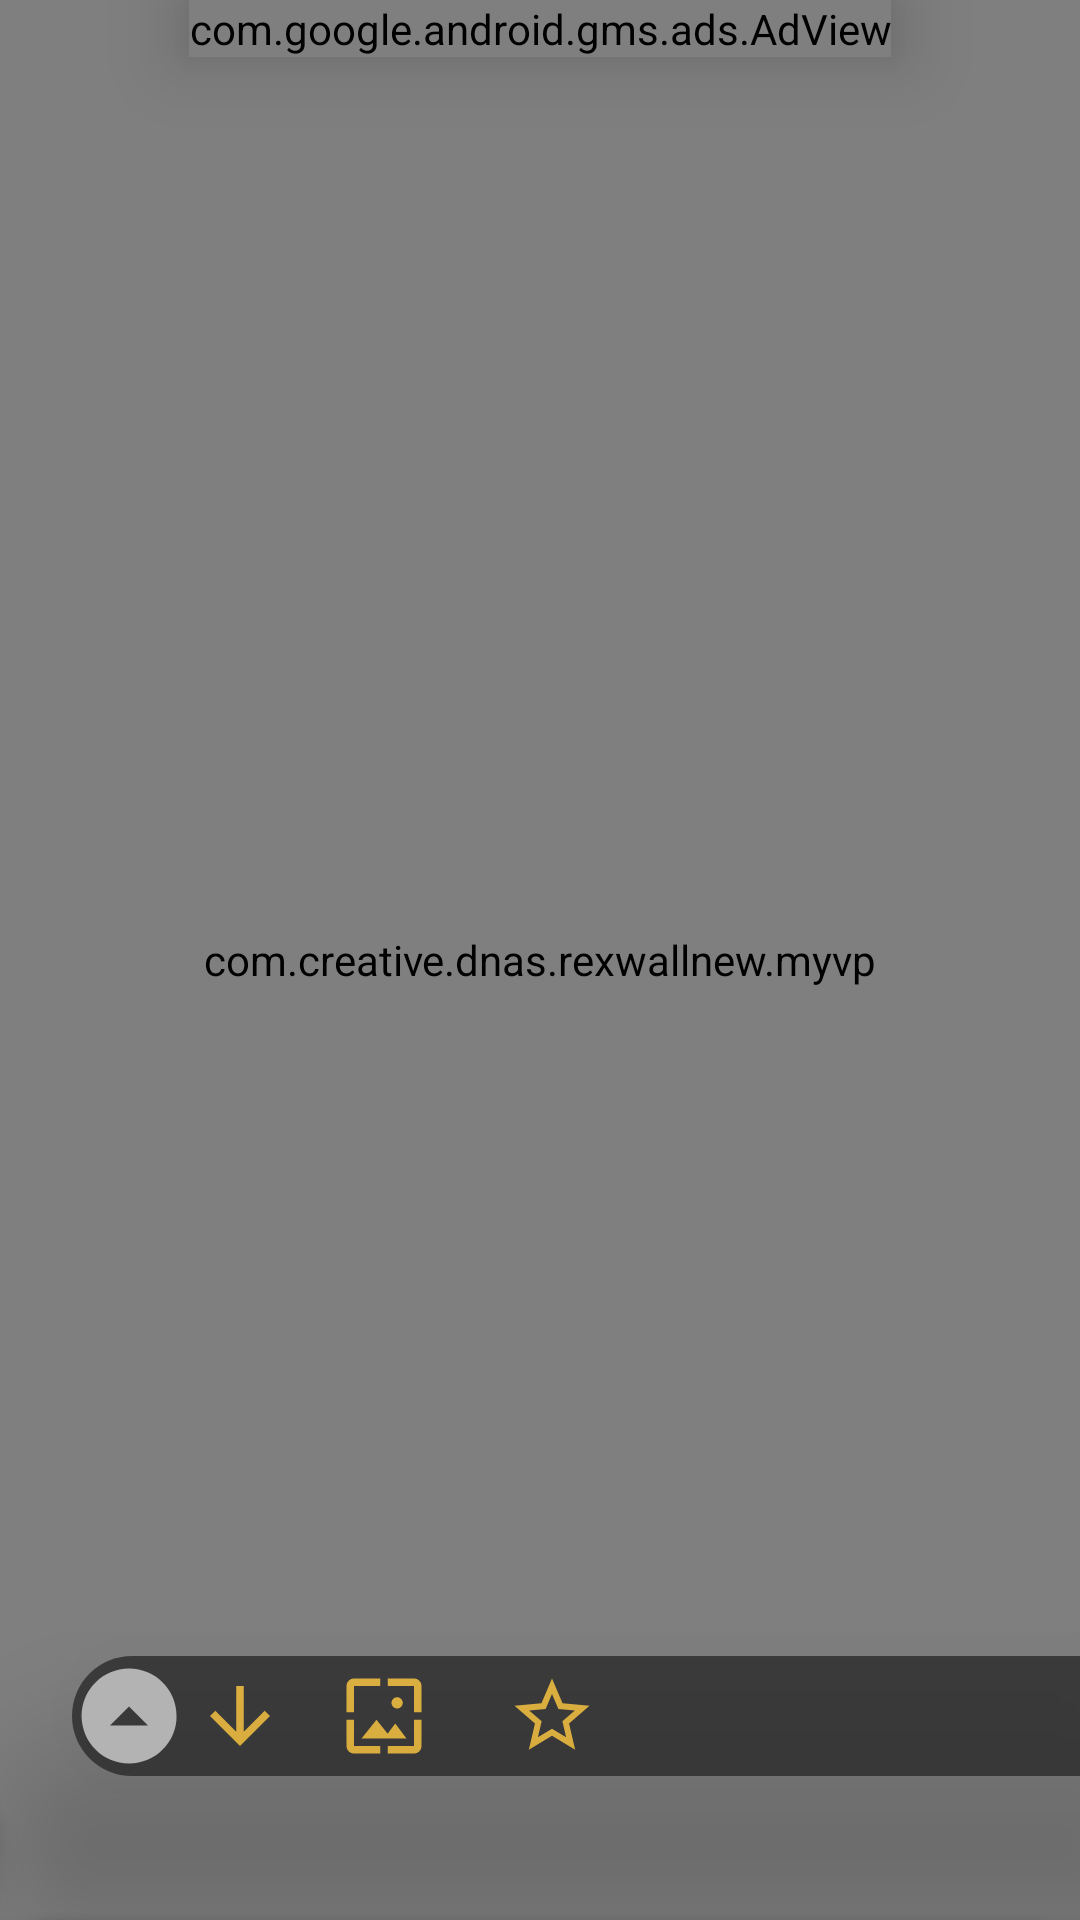

Icon bounding boxes for this 1080w x 1920h phone screenshot, format [x1, y1, x2, y2]:
download: [210, 1686, 270, 1746]
star border: [515, 1679, 589, 1750]
